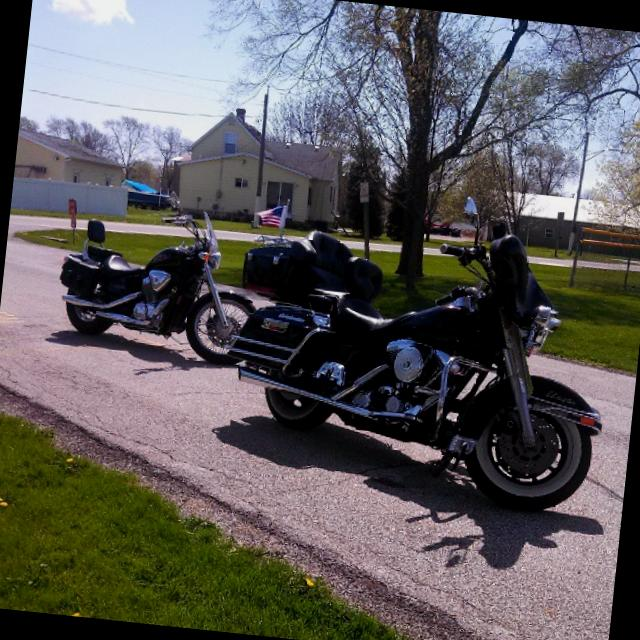Vehicle: (209, 173, 626, 518), (51, 196, 260, 374)
